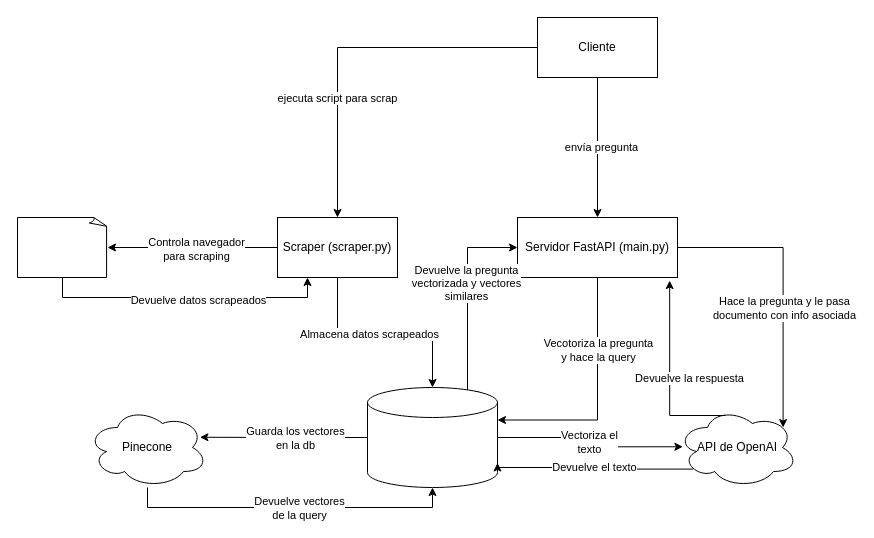
Some shapes in this 874 by 538 pixel diagram are drawn without their labels. The shapes that lost their labels are listed below. From the top down, each one's centre as x and y in pixels, then its label:
the point at 62,247: Chromedriver
the point at 432,437: Base de Datos Vectorial (vector_db.py)
